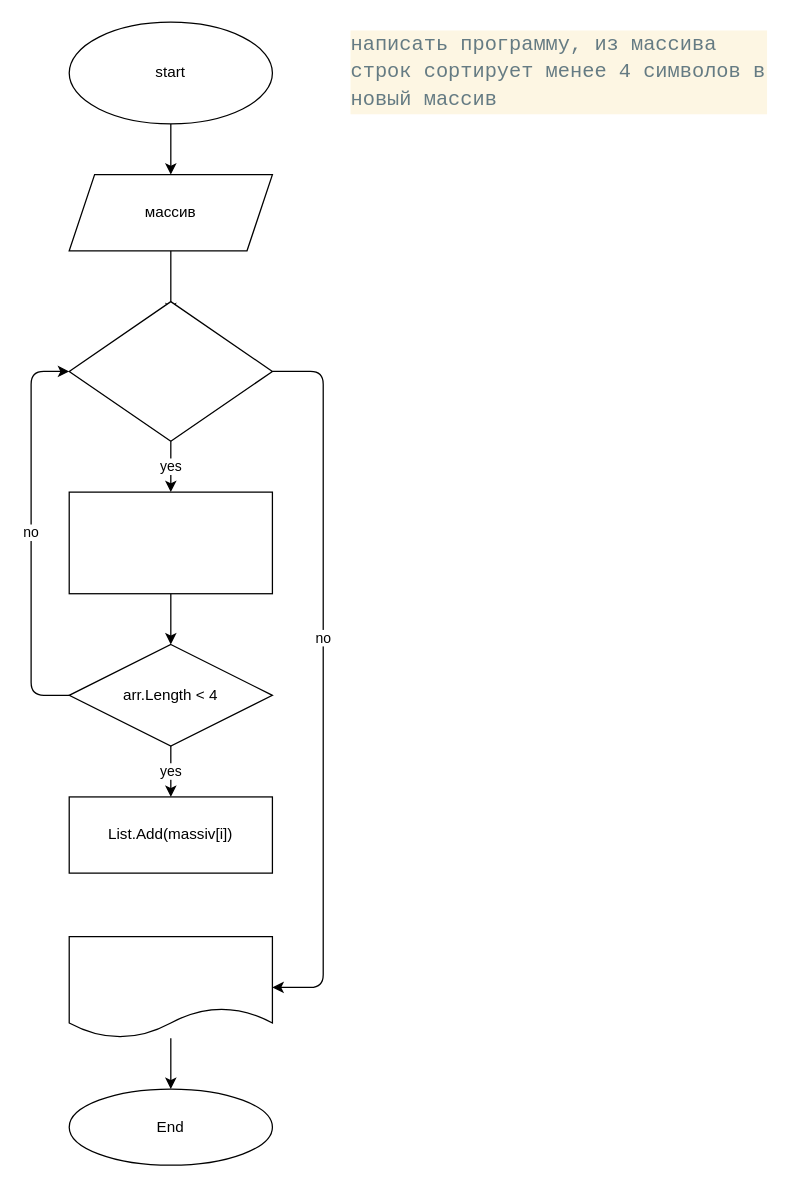
This 790x1187 diagram has some shape labels left out. The shapes that lost their labels are listed below. From the top down, each one's centre as x and y in pixels, then its label:
(170,370): for i < длины массива
(170,542): char[] arr = massiv [i]
(170,986): print(List)
